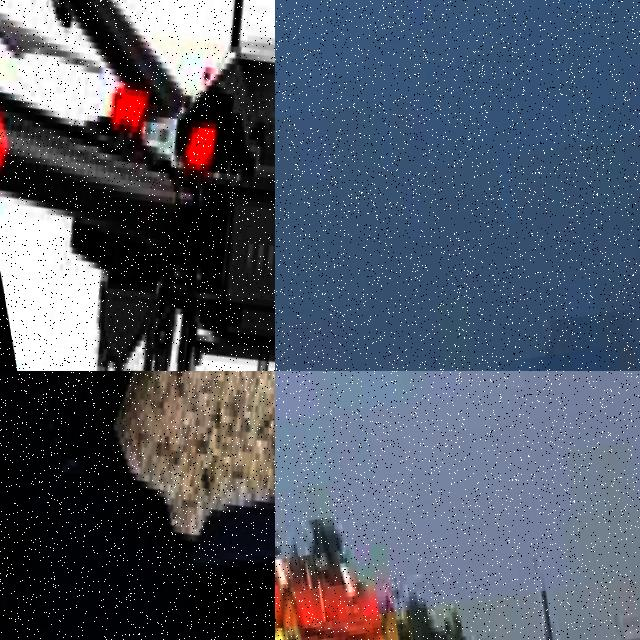drone: (0, 0, 275, 371), (0, 371, 275, 640)
